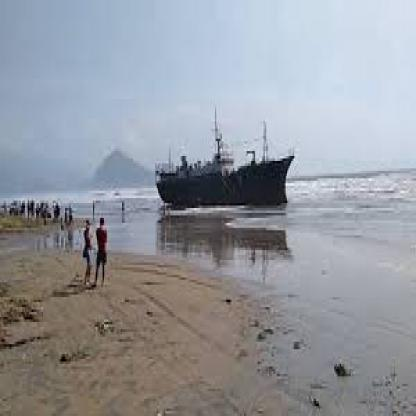fish-b: (144, 106, 301, 220)
